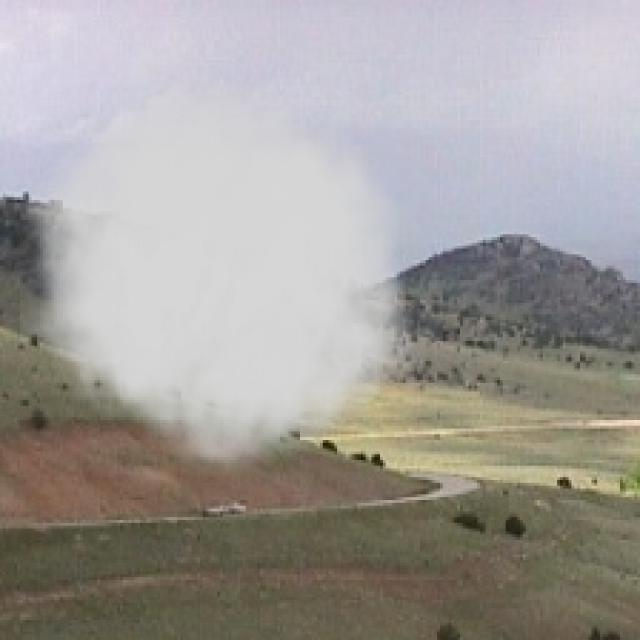Smoke: (19, 60, 432, 486)
